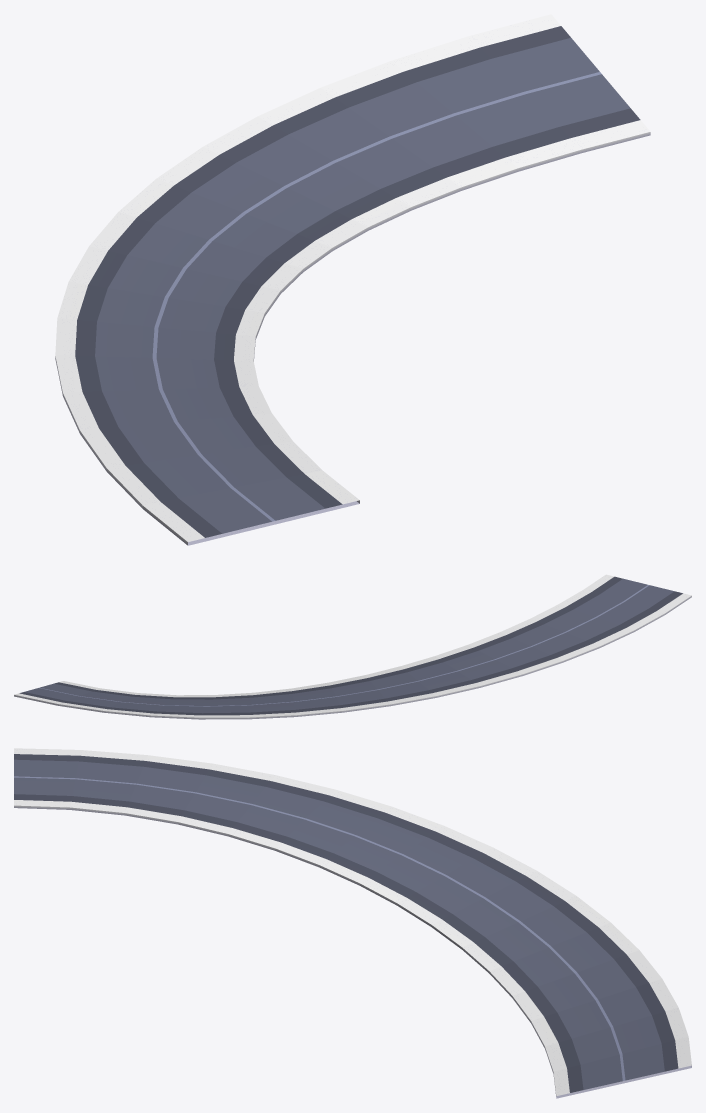
File: road-Turn-Flat-HalfBankedRight-Down2-Right-Size5.glb
3 renders of one model, top to bottom at view 1: azimuth 30°, elevation 25°; view 2: azimuth 150°, elevation 25°; view 3: azimuth 270°, elevation 25°, orthographic. The views are drawn at different scales.
Visible parts, largest first — view 1: road-Turn-Flat-HalfBankedRight-Down2-Right-Size5; view 2: road-Turn-Flat-HalfBankedRight-Down2-Right-Size5; view 3: road-Turn-Flat-HalfBankedRight-Down2-Right-Size5.
Part boxes in pixels (x1=…): road-Turn-Flat-HalfBankedRight-Down2-Right-Size5: x1=55, y1=14, x2=650, y2=545; road-Turn-Flat-HalfBankedRight-Down2-Right-Size5: x1=14, y1=574, x2=691, y2=719; road-Turn-Flat-HalfBankedRight-Down2-Right-Size5: x1=14, y1=748, x2=691, y2=1098.
Size of the model in its own units: 5 by 0.52 by 5.
Materials: 1 (1 with a texture image).
